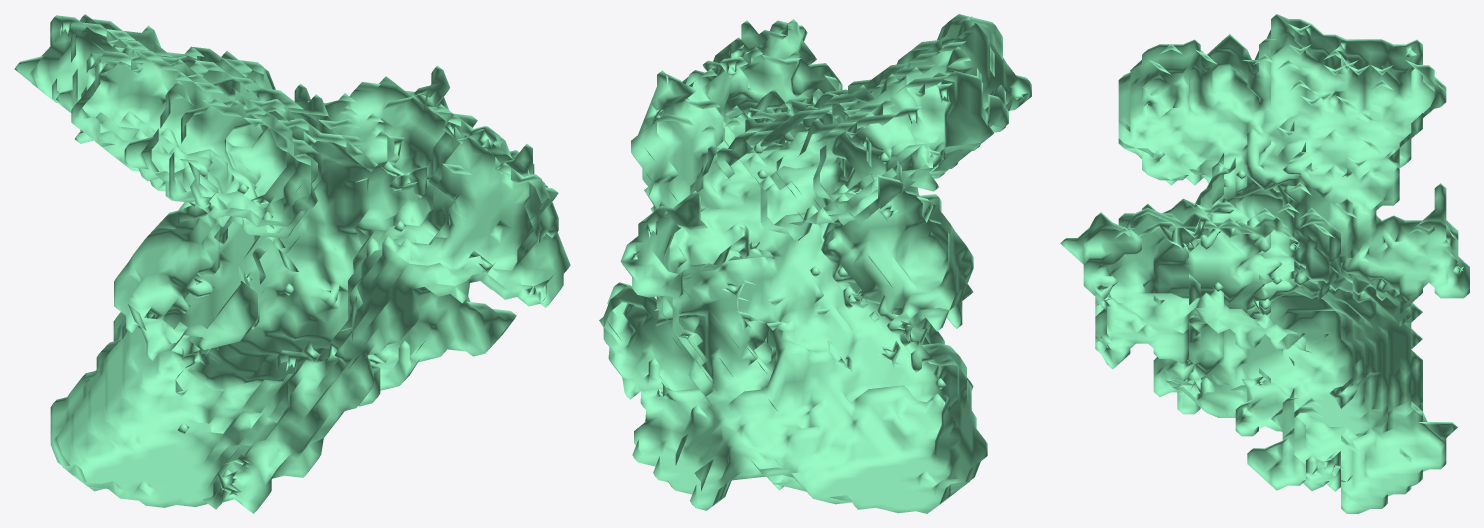
Rendered from osteocyte_252.glb.
3 renders of one model, left to right at view 1: azimuth 30°, elevation 25°; view 2: azimuth 150°, elevation 25°; view 3: azimuth 270°, elevation 25°, orthographic. The views are drawn at different scales.
Parts seen in each view (by area): view 1: osteocyte_252; view 2: osteocyte_252; view 3: osteocyte_252.
Boxes of the visible parts, bbox=[...] form: osteocyte_252: bbox=[14, 14, 570, 513]; osteocyte_252: bbox=[599, 14, 1031, 513]; osteocyte_252: bbox=[1060, 14, 1469, 513].
Size of the model in its own units: 16.85 by 16.85 by 16.85.
